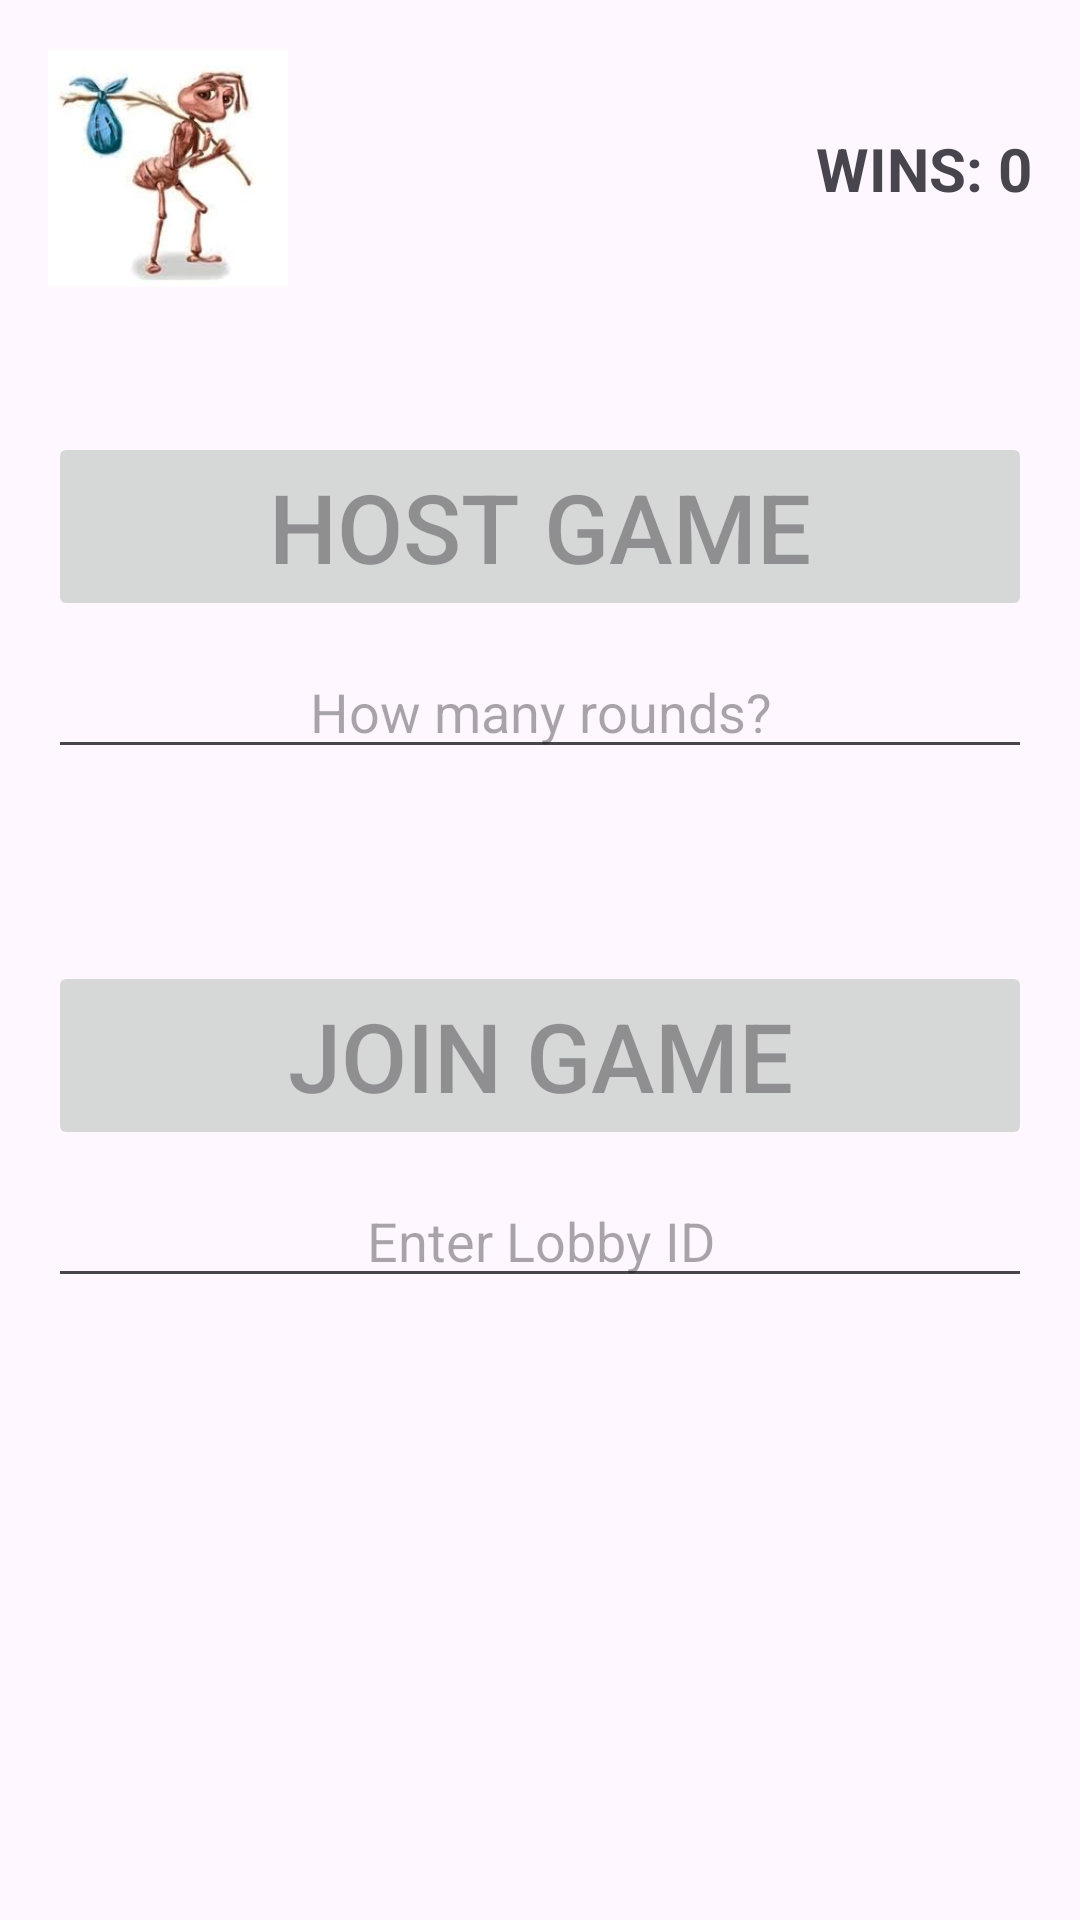

Point at icon controls on the screen. Image size 1080×1920, points as (x=x, y=y).
leavingant: (x=156, y=175)
